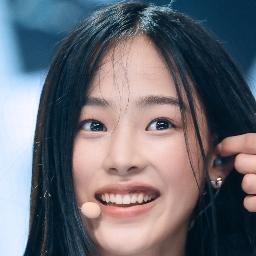face: (74, 46, 200, 250)
